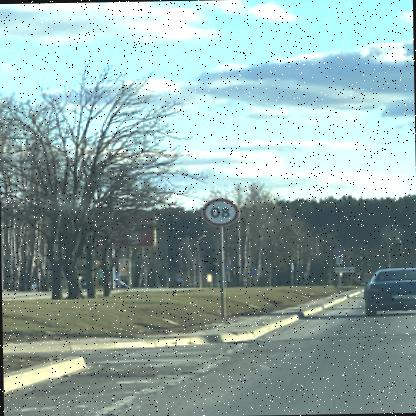speedlimit: (204, 197, 240, 224)
